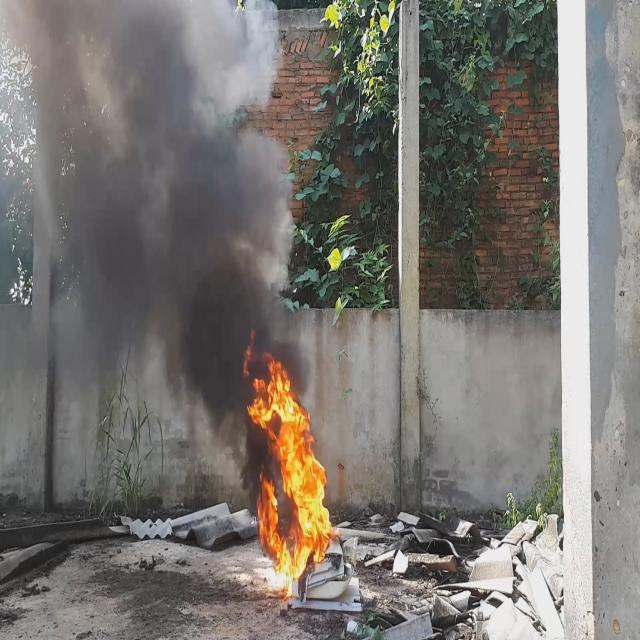Fire: (241, 330, 338, 598)
Smoke: (0, 0, 308, 541)
